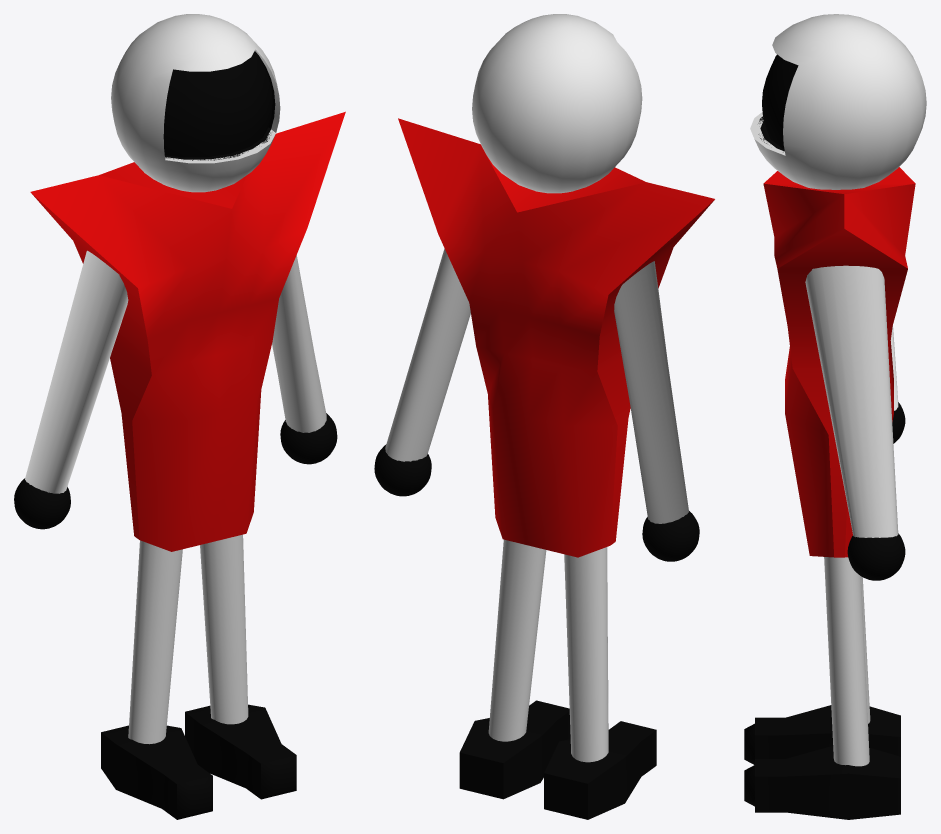
The model's file is Astronaut_Player_Color.fbx.
3 views of the same model, side by side, from view 1: azimuth 30°, elevation 25°; view 2: azimuth 150°, elevation 25°; view 3: azimuth 270°, elevation 25° (orthographic).
Visible parts, largest first — view 1: Astronaut_Player2; view 2: Astronaut_Player2; view 3: Astronaut_Player2.
Boxes of the visible parts, x1=… form: Astronaut_Player2: x1=14, y1=14, x2=345, y2=819; Astronaut_Player2: x1=374, y1=14, x2=714, y2=819; Astronaut_Player2: x1=744, y1=14, x2=926, y2=819.
Size of the model in its own units: 81.6 by 184 by 40.
